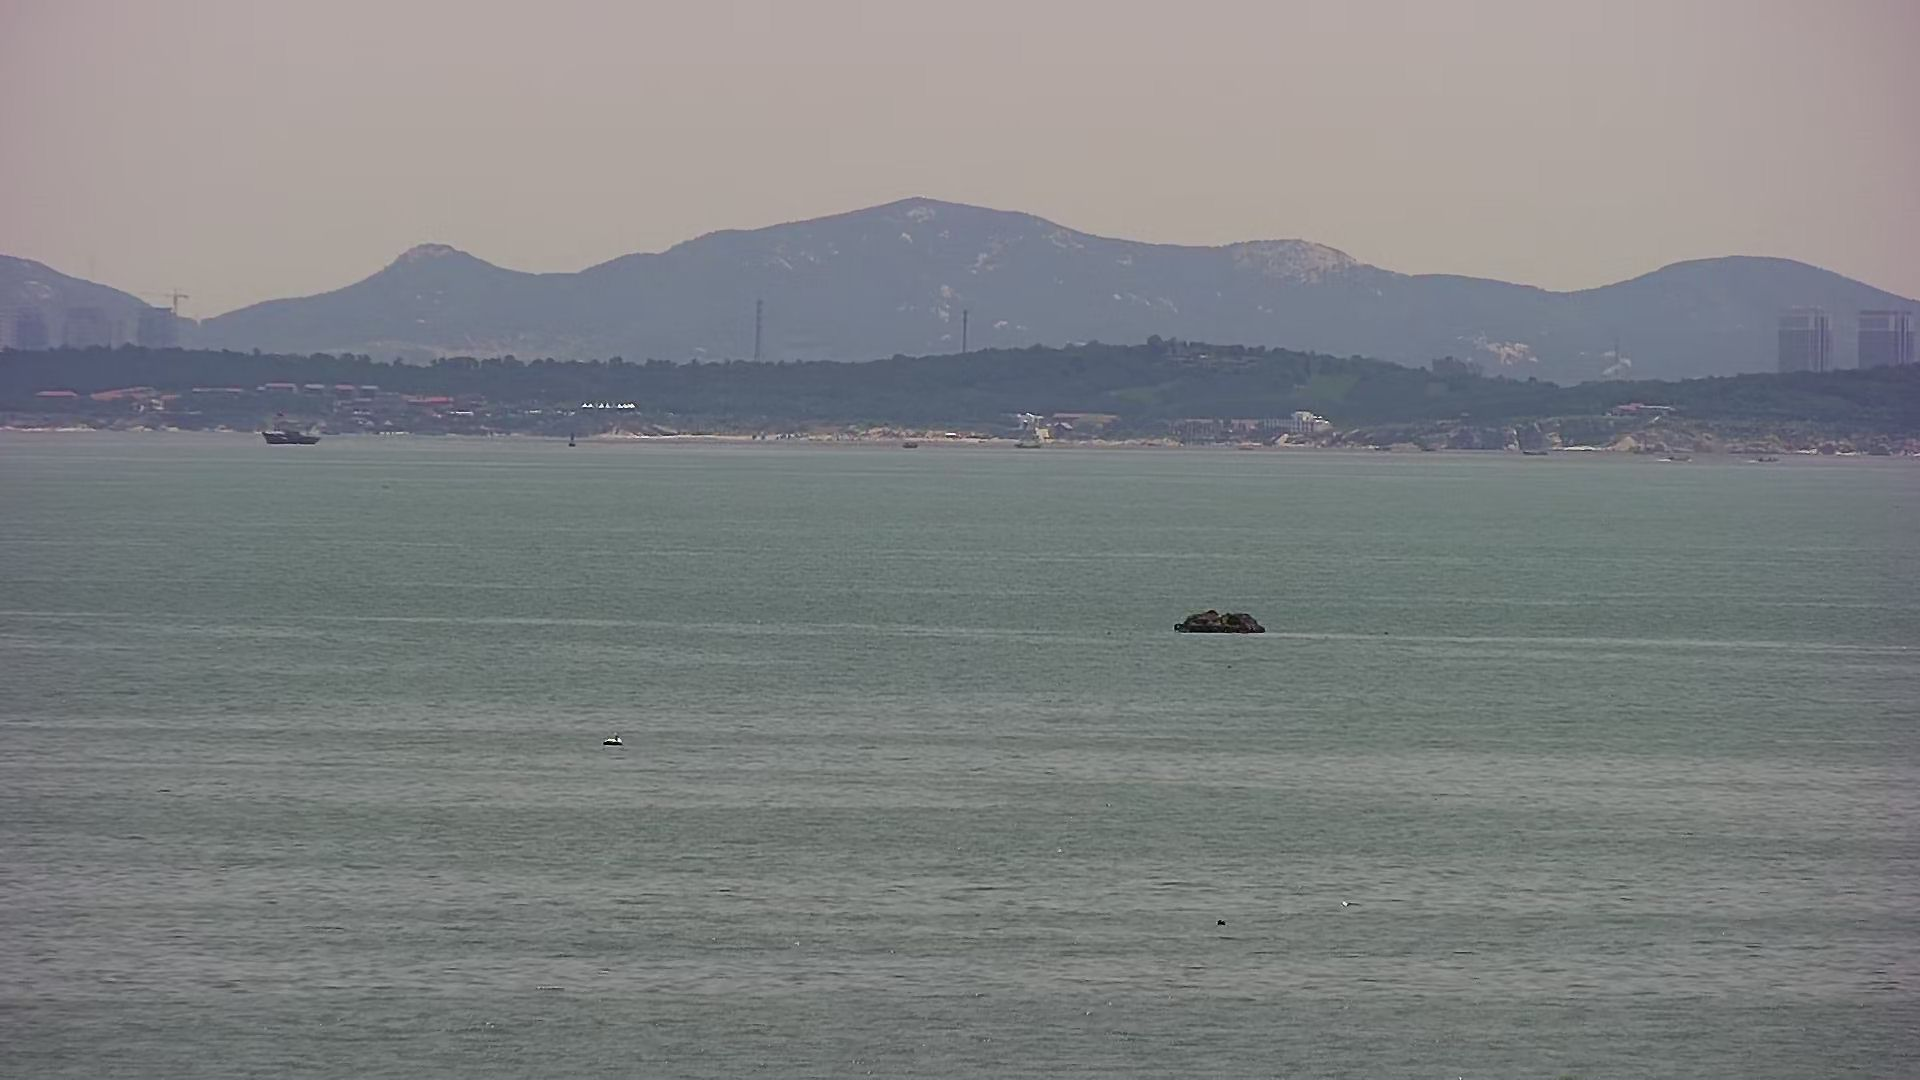ball: (601, 728, 625, 749)
boat: (258, 426, 326, 448)
rock: (1170, 603, 1267, 637)
